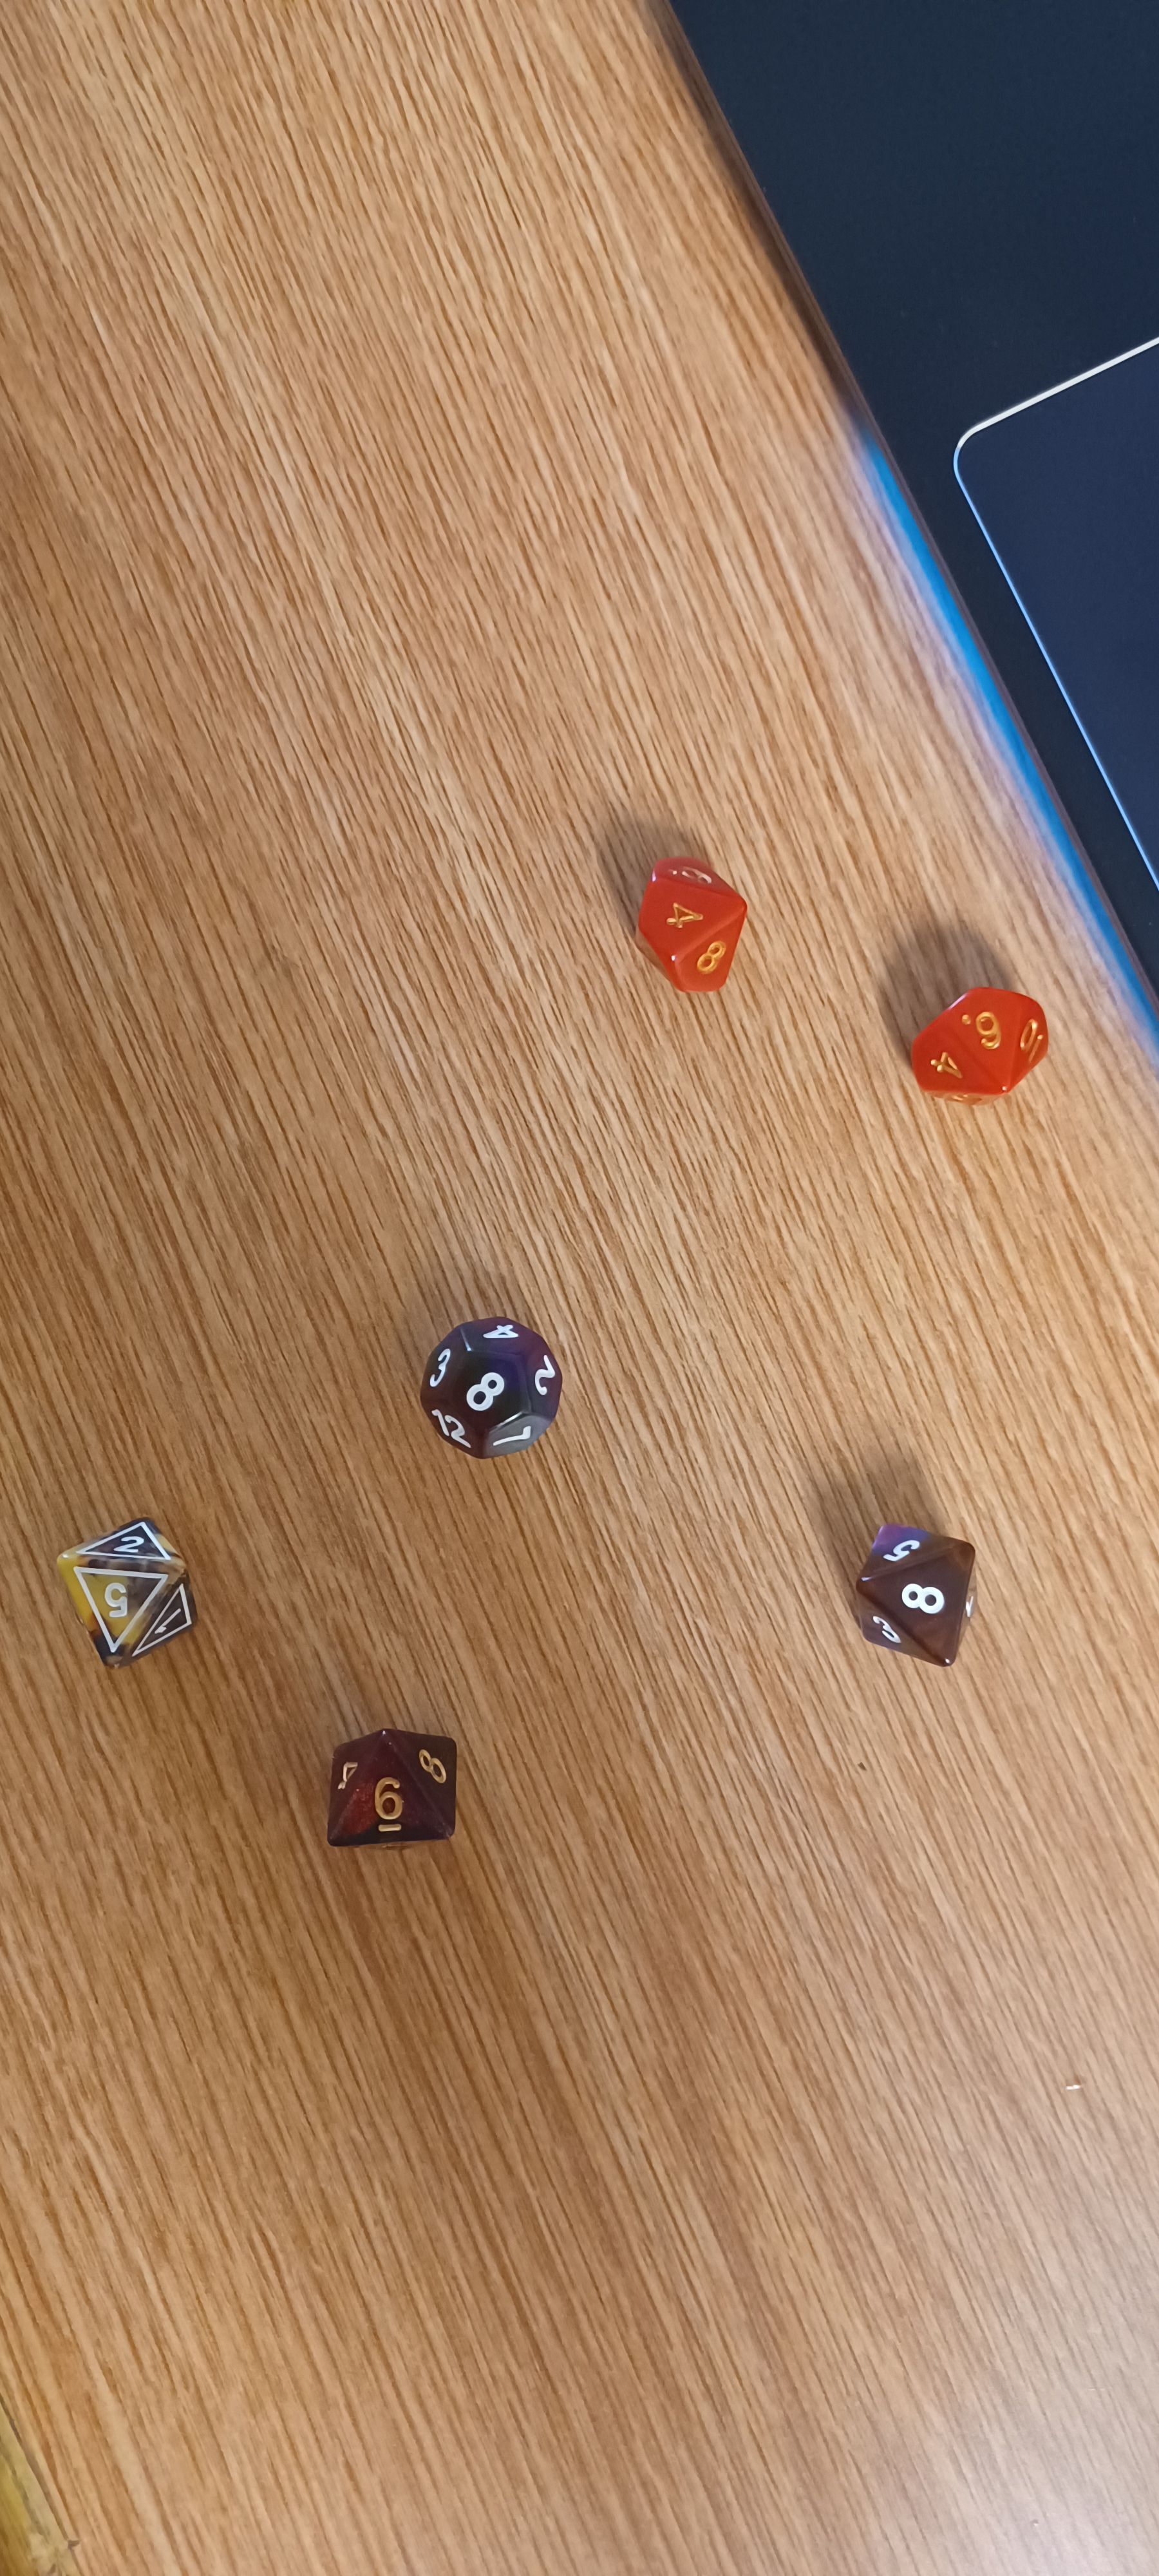eight: (384, 1281, 594, 1483), (813, 1492, 1006, 1690)
five: (30, 1505, 225, 1674)
four: (609, 843, 776, 1002)
six: (287, 1694, 534, 1893), (883, 958, 1090, 1135)
